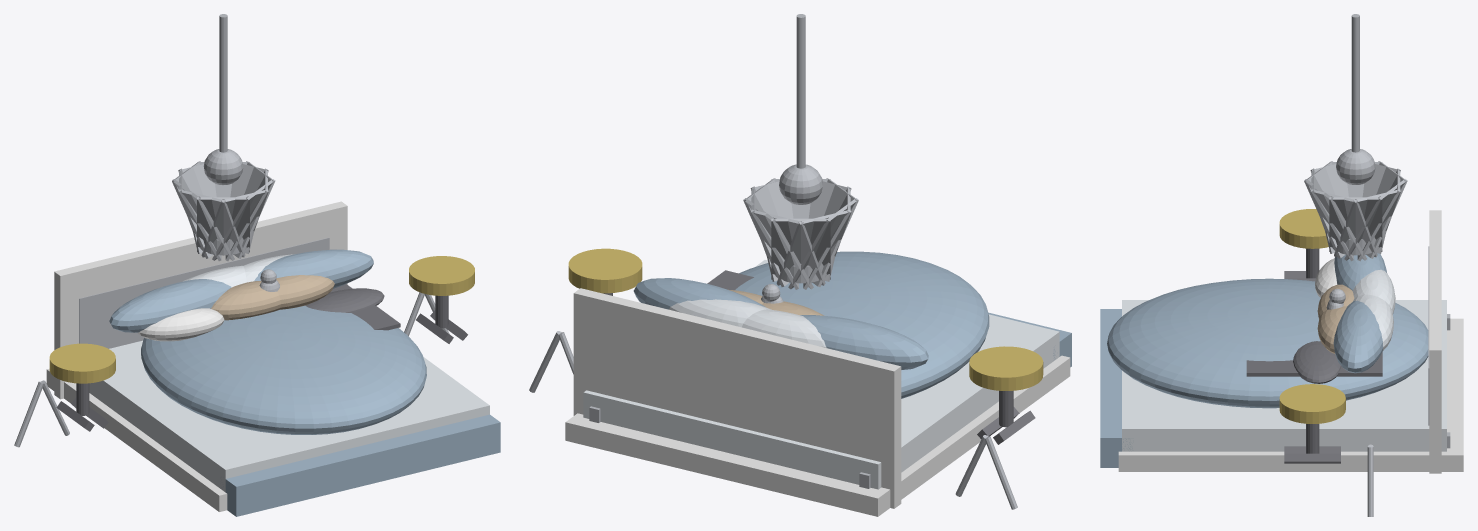
3 views of the same model, side by side, from view 1: azimuth 30°, elevation 25°; view 2: azimuth 150°, elevation 25°; view 3: azimuth 270°, elevation 25° (orthographic). The views are drawn at different scales.
Parts seen in each view (by area): view 1: duvet, mattress, duvet_foot, headboard, headboard_panel, bed_frame, pillow_0, pillow_1, ns_L_top, ns_R_top, pillow_6, pillow_4 (+11 smaller); view 2: headboard, mattress, duvet, bed_frame, pillow_0, ns_L_top, ns_R_top, pillow_1, pillow_2, pillow_3, lamp_rod, lamp_cap (+7 smaller); view 3: duvet, mattress, bed_frame, headboard, duvet_foot, pillow_1, ns_R_top, ns_L_top, pillow_5, lamp_rod, throw_blanket, lamp_cap (+20 smaller).
Part boxes in pixels (x1=…): duvet: x1=141, y1=305, x2=426, y2=434; mattress: x1=89, y1=340, x2=489, y2=492; duvet_foot: x1=223, y1=414, x2=500, y2=516; headboard: x1=54, y1=201, x2=347, y2=399; headboard_panel: x1=79, y1=237, x2=329, y2=348; bed_frame: x1=46, y1=368, x2=227, y2=511; pillow_0: x1=109, y1=279, x2=231, y2=332; pillow_1: x1=254, y1=249, x2=373, y2=288; ns_L_top: x1=49, y1=343, x2=115, y2=383; ns_R_top: x1=409, y1=256, x2=474, y2=295; pillow_6: x1=211, y1=280, x2=280, y2=320; pillow_4: x1=137, y1=308, x2=224, y2=341; headboard: x1=573, y1=288, x2=901, y2=508; mattress: x1=583, y1=260, x2=1059, y2=489; duvet: x1=735, y1=251, x2=989, y2=398; bed_frame: x1=565, y1=355, x2=1070, y2=516; pillow_0: x1=800, y1=315, x2=928, y2=369; ns_L_top: x1=969, y1=346, x2=1043, y2=390; ns_R_top: x1=568, y1=248, x2=642, y2=293; pillow_1: x1=633, y1=278, x2=765, y2=309; pillow_2: x1=742, y1=309, x2=826, y2=347; pillow_3: x1=669, y1=299, x2=771, y2=327; lamp_rod: x1=796, y1=14, x2=805, y2=168; lamp_cap: x1=779, y1=164, x2=822, y2=204; duvet: x1=1107, y1=278, x2=1428, y2=408; mattress: x1=1122, y1=300, x2=1446, y2=451; bed_frame: x1=1118, y1=318, x2=1463, y2=471; headboard: x1=1429, y1=210, x2=1441, y2=473; duvet_foot: x1=1100, y1=309, x2=1132, y2=467; pillow_1: x1=1333, y1=300, x2=1383, y2=373; ns_R_top: x1=1279, y1=384, x2=1345, y2=423; ns_L_top: x1=1279, y1=209, x2=1328, y2=248; pillow_5: x1=1293, y1=341, x2=1341, y2=383; lamp_rod: x1=1351, y1=14, x2=1359, y2=152; throw_blanket: x1=1246, y1=352, x2=1382, y2=376; lamp_cap: x1=1336, y1=149, x2=1375, y2=184.
Size of the model in its own units: 3.04 by 2.58 by 2.19.
